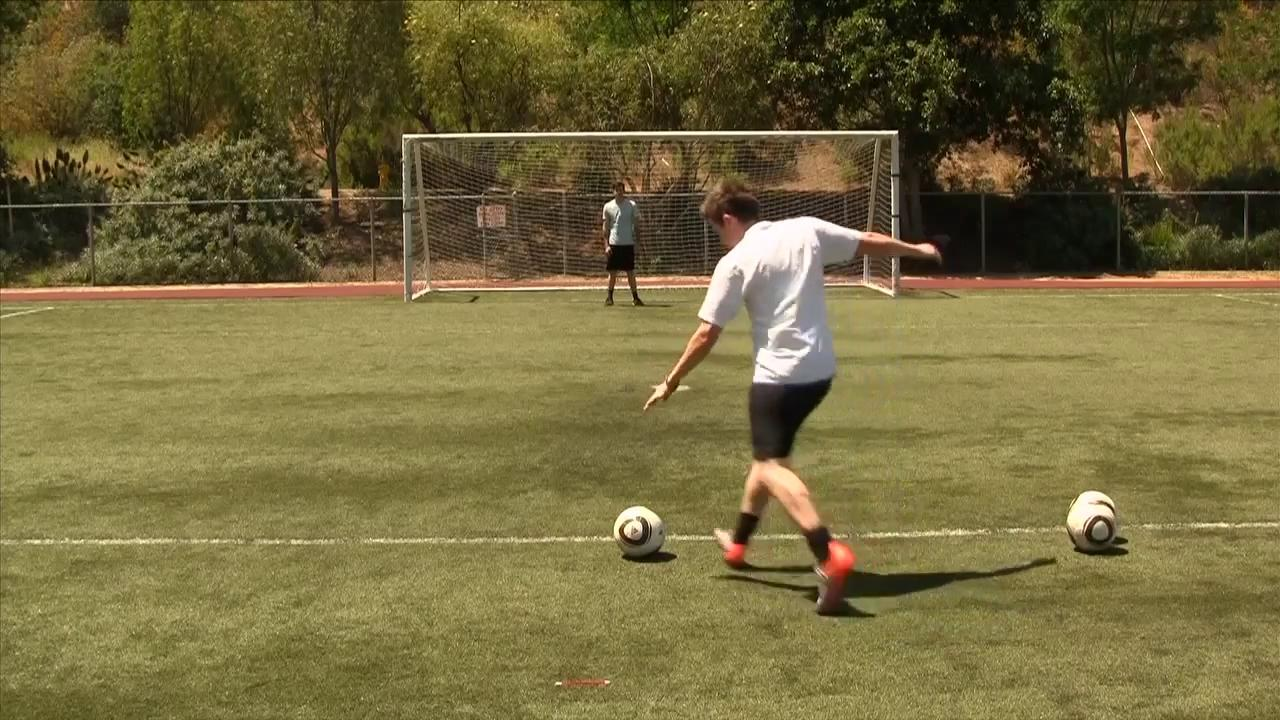victim: (638, 176, 948, 626), (590, 178, 651, 313)
